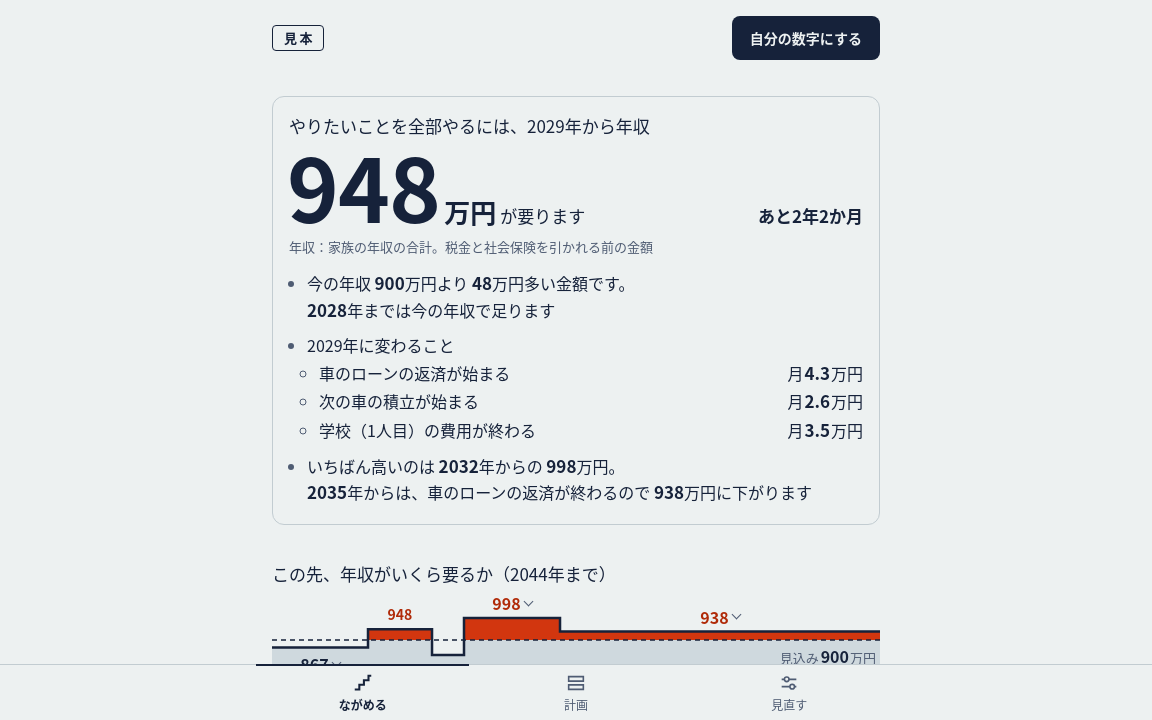
見直す（T12） › 見本のままでも動かして試せる。保存はせず、「この案にする」の代わりに「自分の数字にする」を出す
This screenshot has width=1152, height=720.
Click the link "見直す". click: {"x": 789, "y": 692}
box: [771,672,807,713]
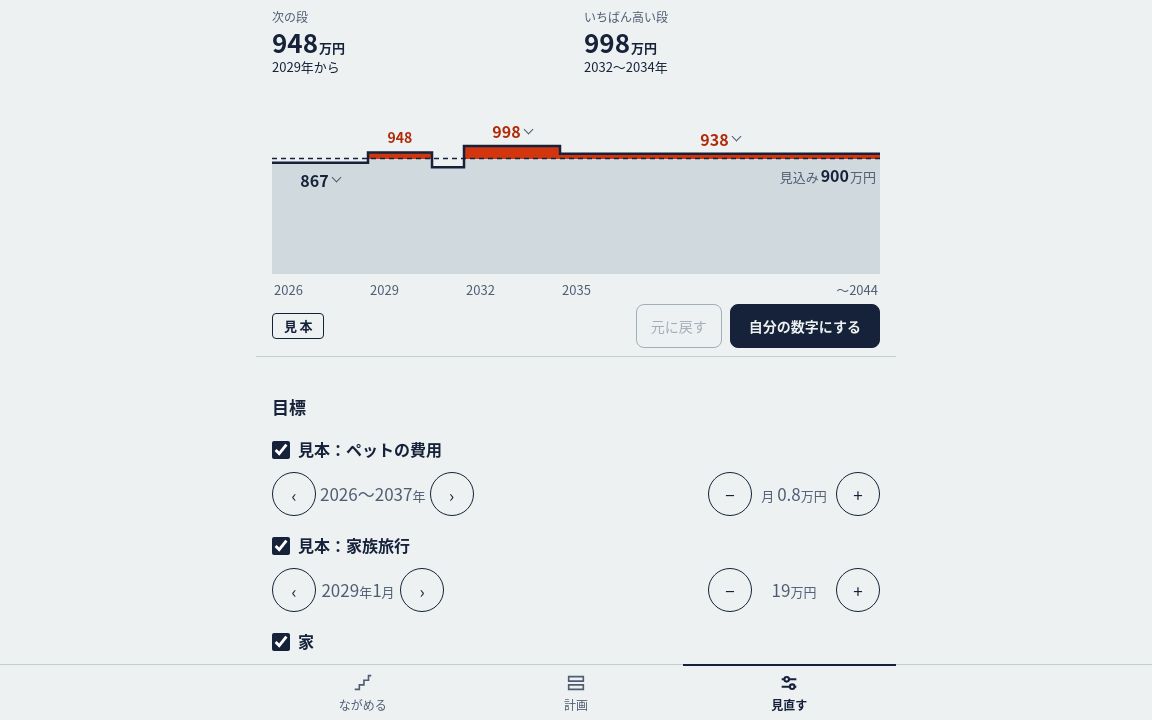
Expected: the text "見本" is shown, [272,313,324,339]
Click the checkbox labelled "家". click: {"x": 281, "y": 642}
box: [272,633,290,651]
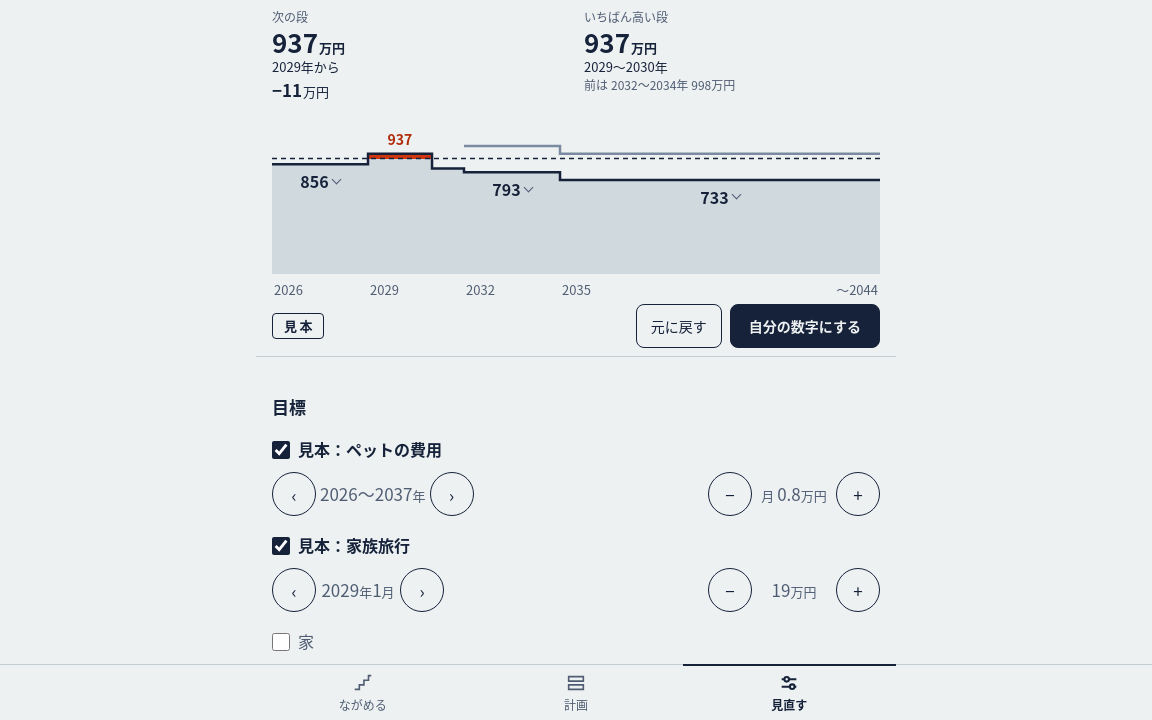
Click the button "自分の数字にする". click: {"x": 805, "y": 326}
box: [730,304,880,348]
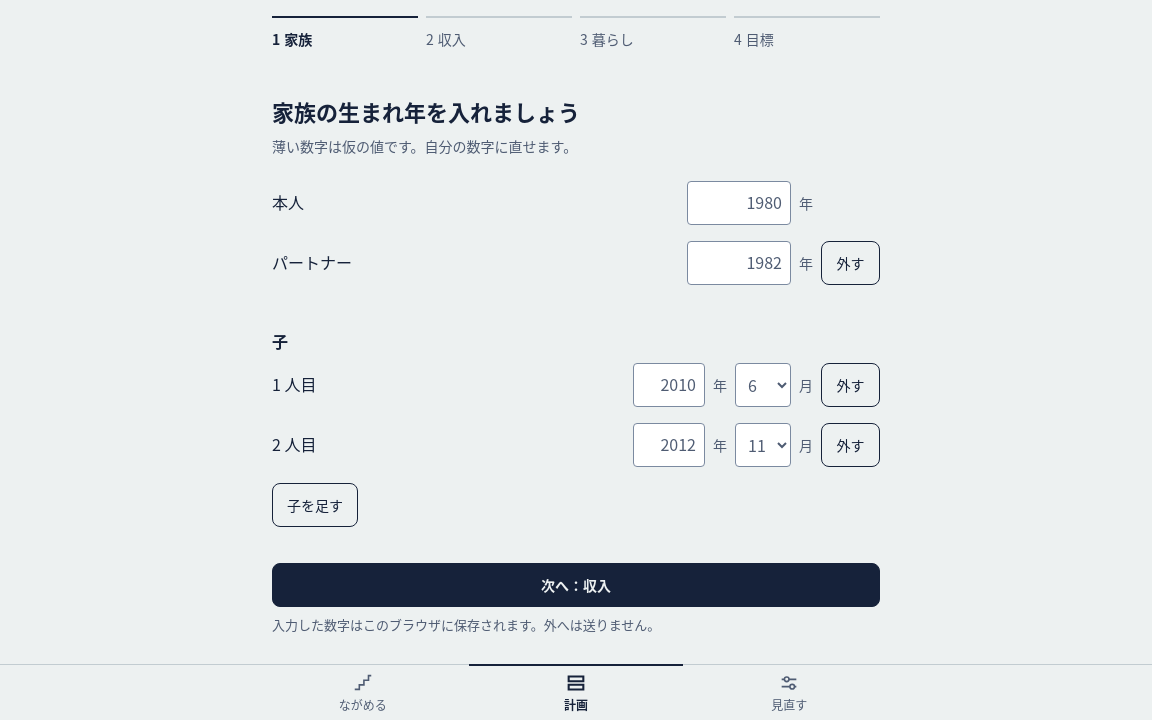
Now the heading "家族の生まれ年を入れましょう" is shown, box [272,95,580,127]
